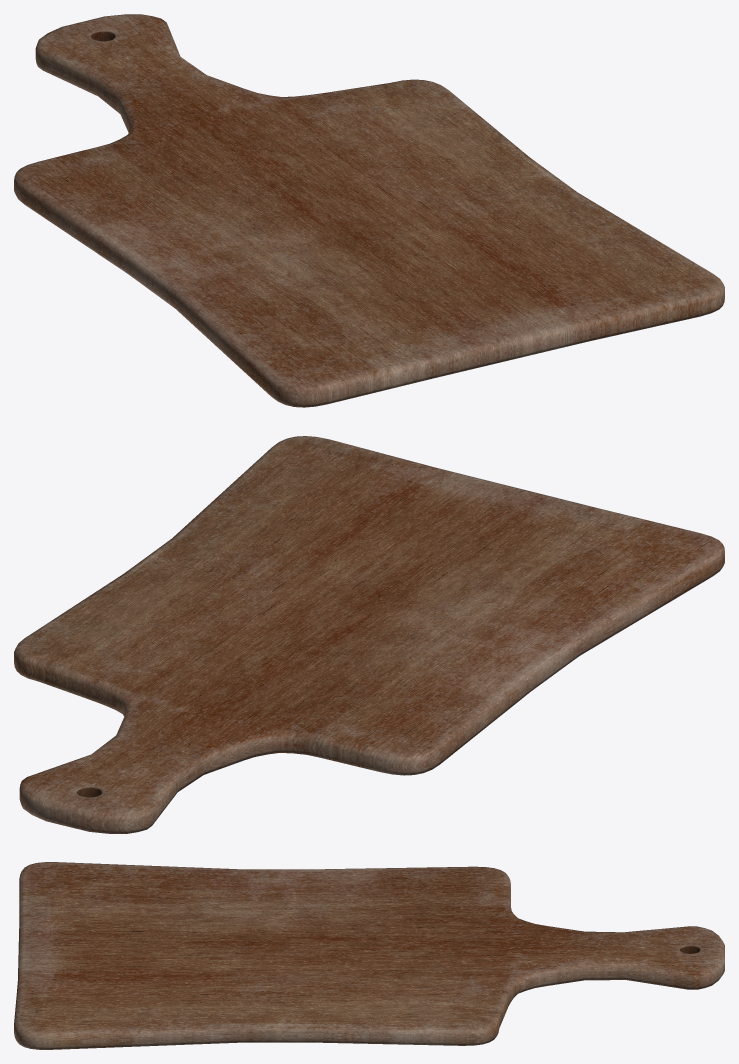
File: GardenKitchenBoard01_2.FBX
3 renders of one model, top to bottom at view 1: azimuth 30°, elevation 25°; view 2: azimuth 150°, elevation 25°; view 3: azimuth 270°, elevation 25°, orthographic. The views are drawn at different scales.
Parts seen in each view (by area): view 1: GardenKitchenBoard01_2; view 2: GardenKitchenBoard01_2; view 3: GardenKitchenBoard01_2.
Part boxes in pixels (x1,y1,x2,y2): GardenKitchenBoard01_2: [14, 14, 724, 407]; GardenKitchenBoard01_2: [14, 436, 724, 833]; GardenKitchenBoard01_2: [14, 862, 724, 1049].
Size of what is drawn, in the model's own units: 0.2214 by 0.00991 by 0.3815.
